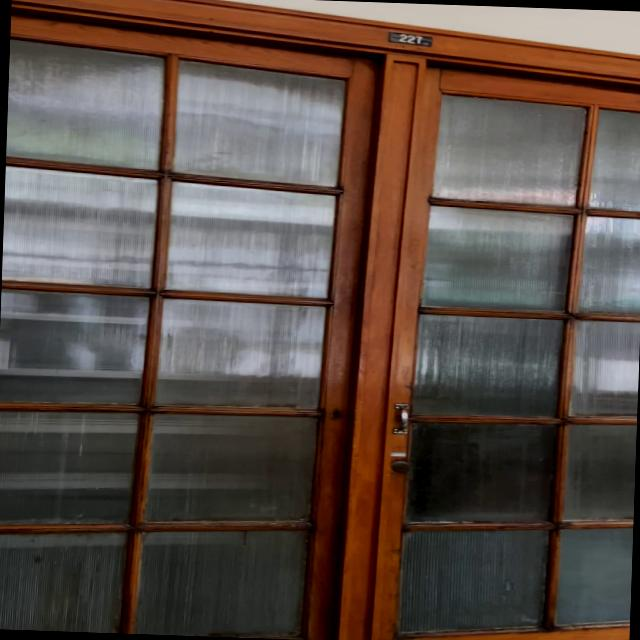room227: (384, 30, 434, 48)
